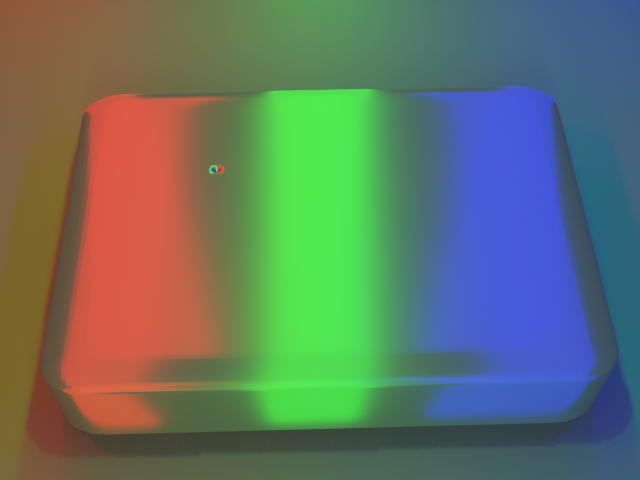dent: (188, 147, 222, 190)
